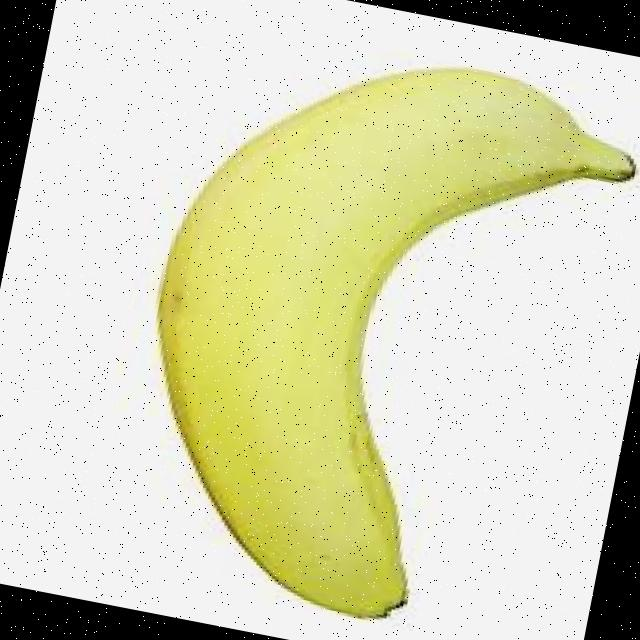banana: (105, 15, 640, 640)
